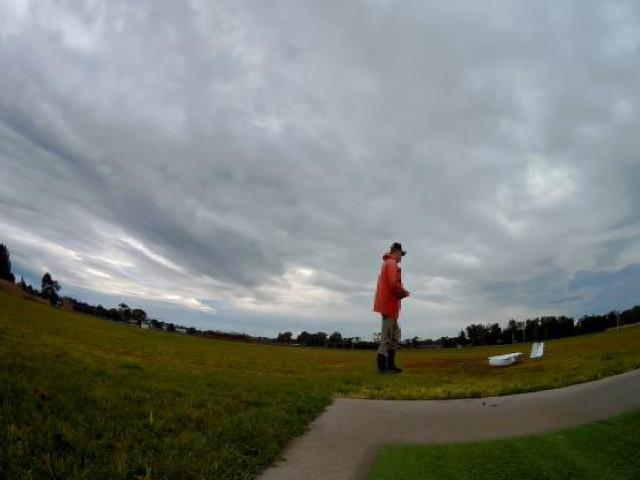uav: (486, 342, 548, 368)
